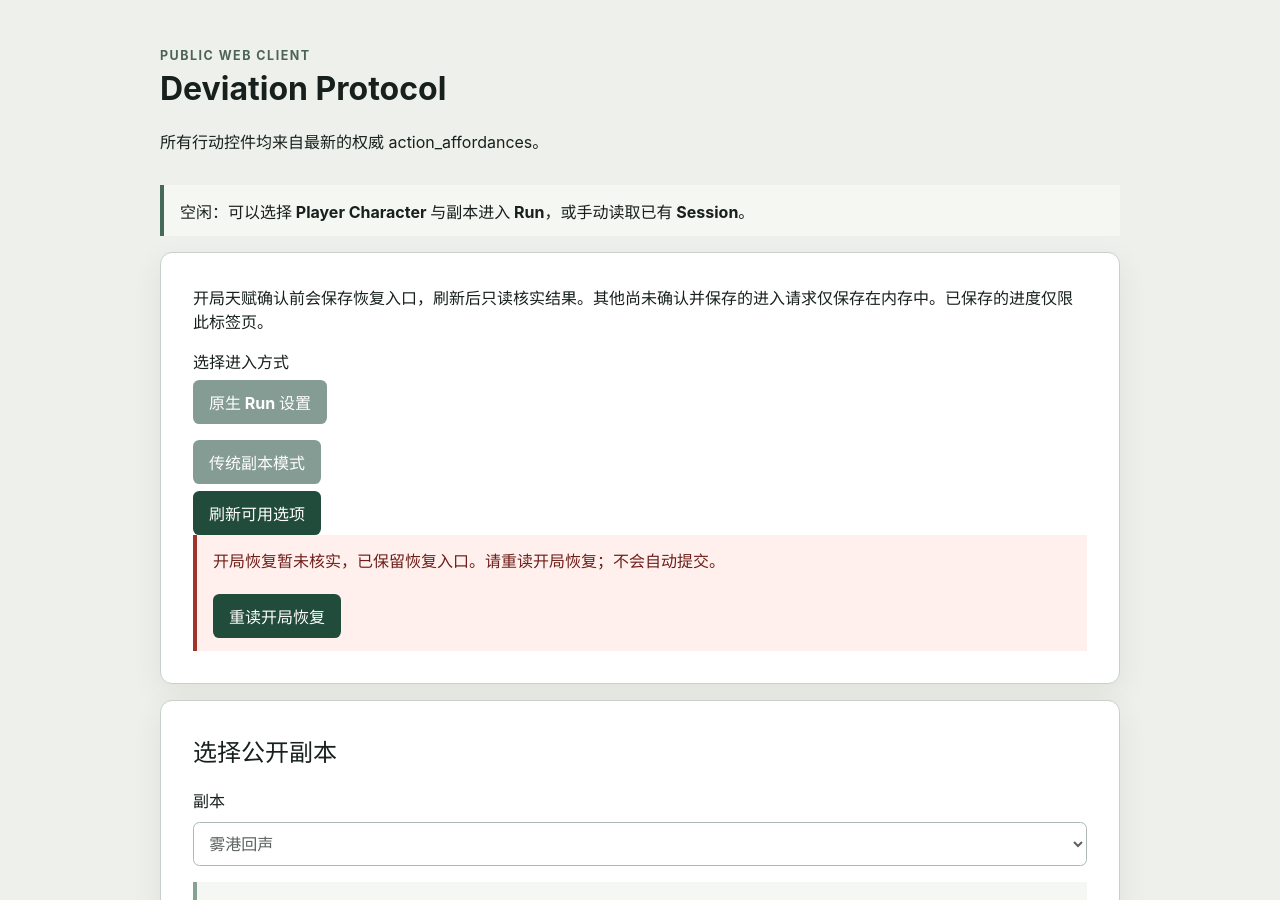
Test case: isolates network recovery and keeps the reference
Click the button "重读开局恢复". click: [277, 616]
box: x1=213 y1=594 x2=341 y2=638
(page scrolled)
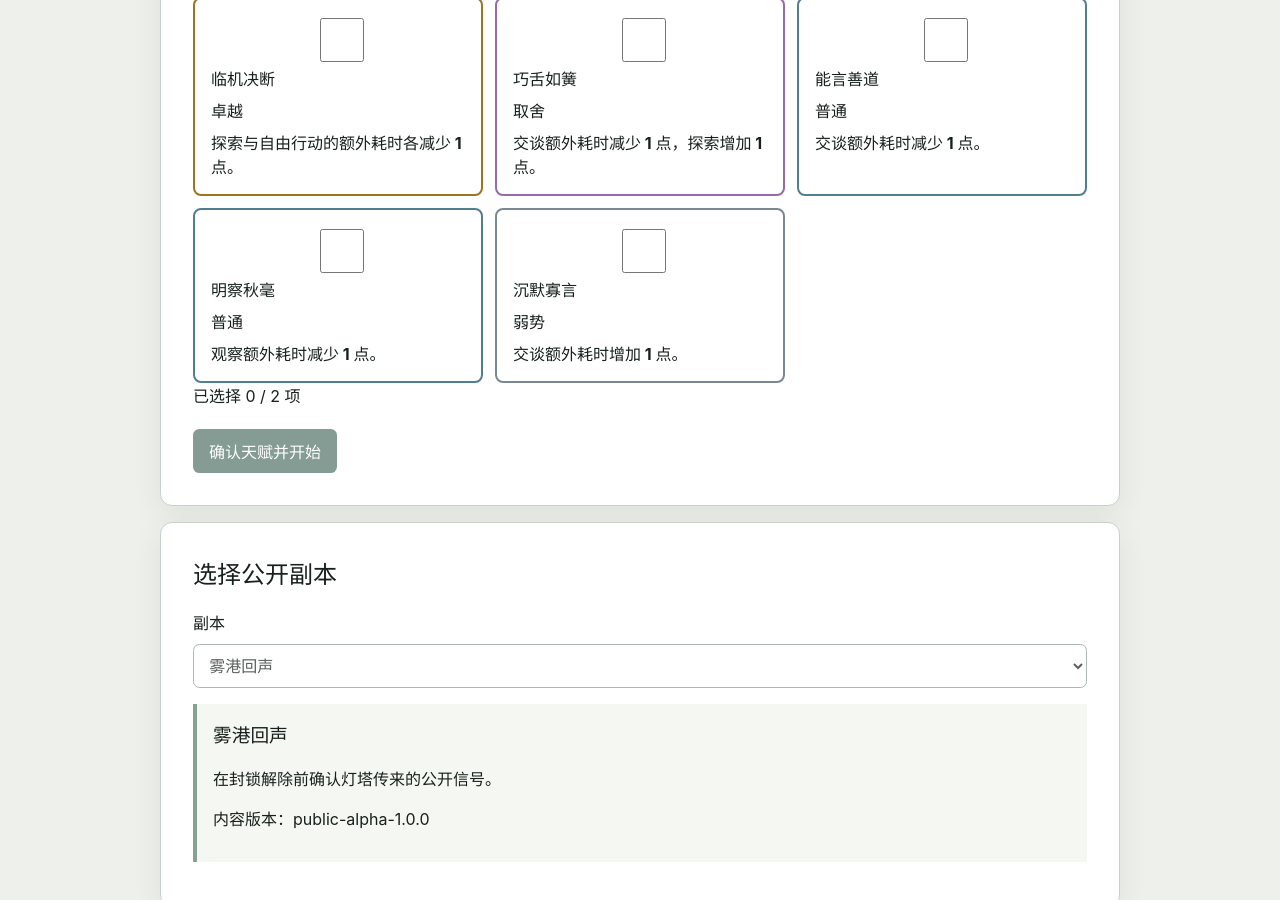
expect the button "确认天赋并开始" is shown: met, box x1=193 y1=429 x2=337 y2=473
